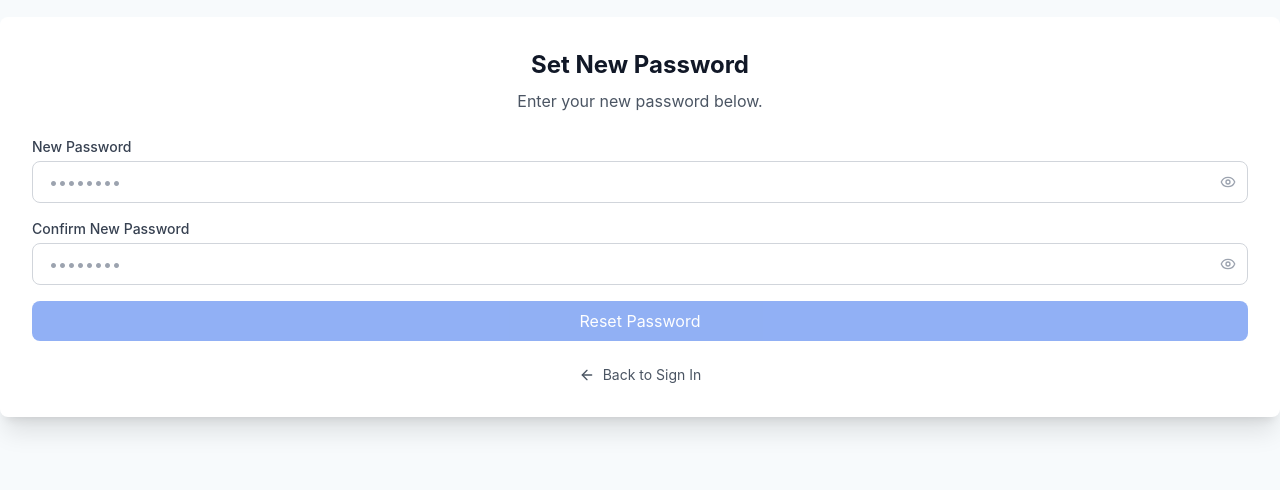
Scenario: ResetPasswordPage › shows password strength indicator
Type "Password123" into the password field labelled "New Password" at (640, 182), box [32, 161, 1248, 203]
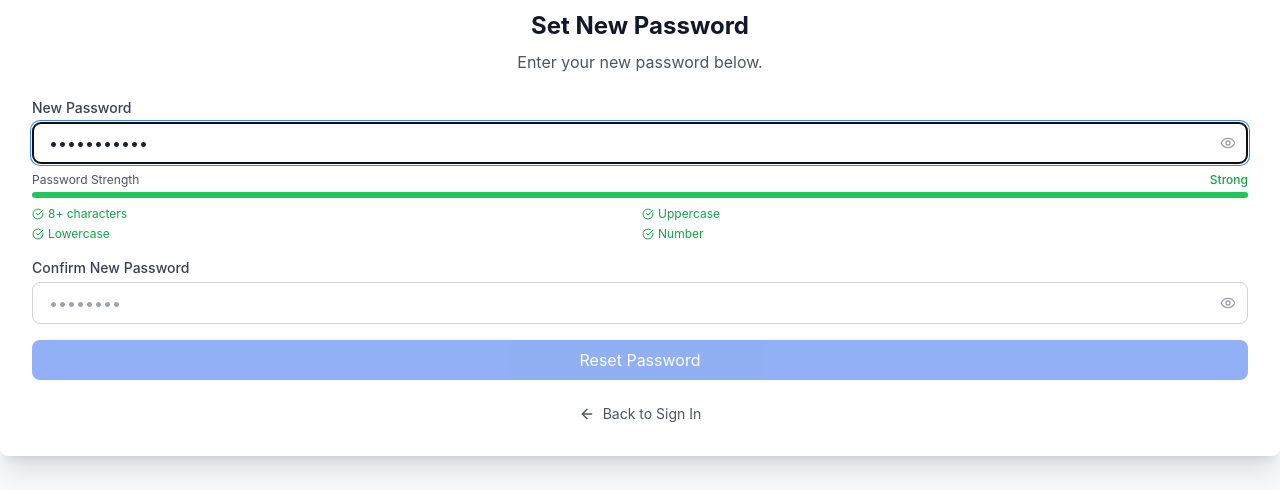
Check: the text "Password Strength" is shown, box [32, 172, 139, 188]
Check: the text "Strong" is shown, box [1210, 172, 1248, 188]
Check: the progress indicator is shown, box [32, 192, 1248, 198]
